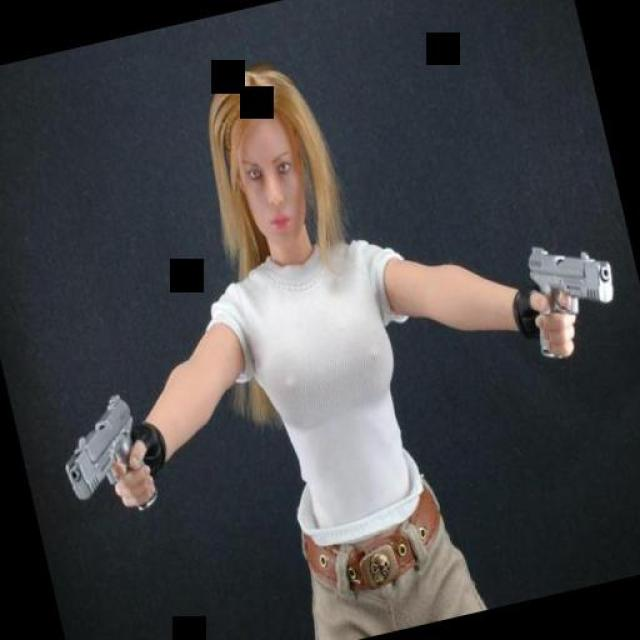gun: (40, 365, 181, 544), (512, 220, 636, 374)
